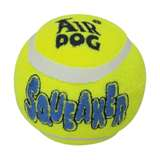tennis ball: (12, 13, 148, 146)
